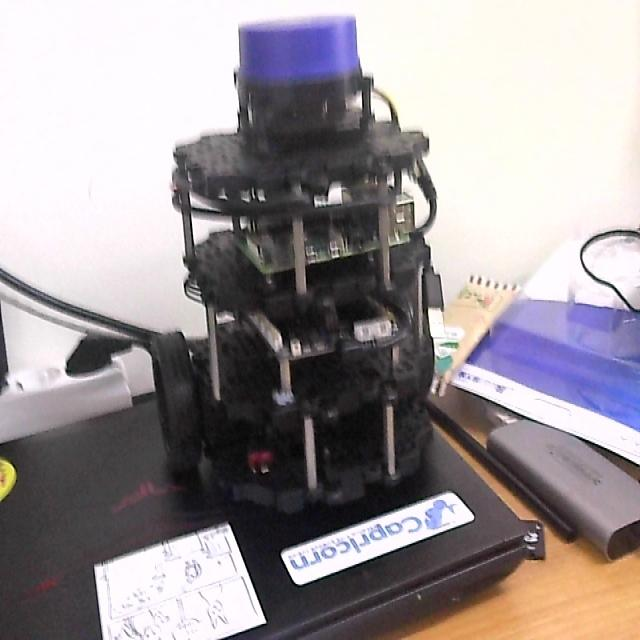turtle: (149, 13, 446, 520)
